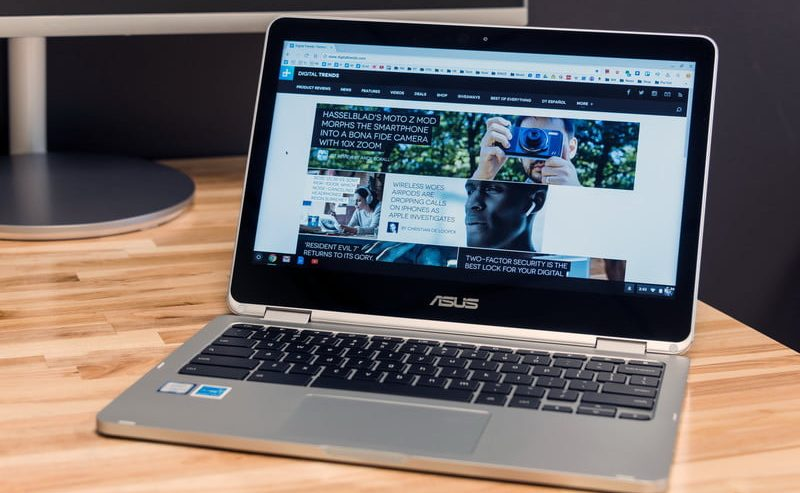Laptop: (89, 13, 720, 493)
